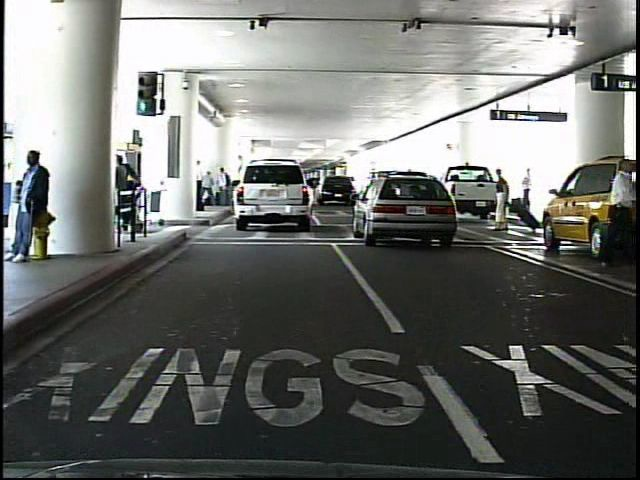person: (14, 148, 55, 265), (605, 156, 639, 263), (492, 167, 512, 233), (523, 166, 536, 216), (218, 167, 233, 209)
